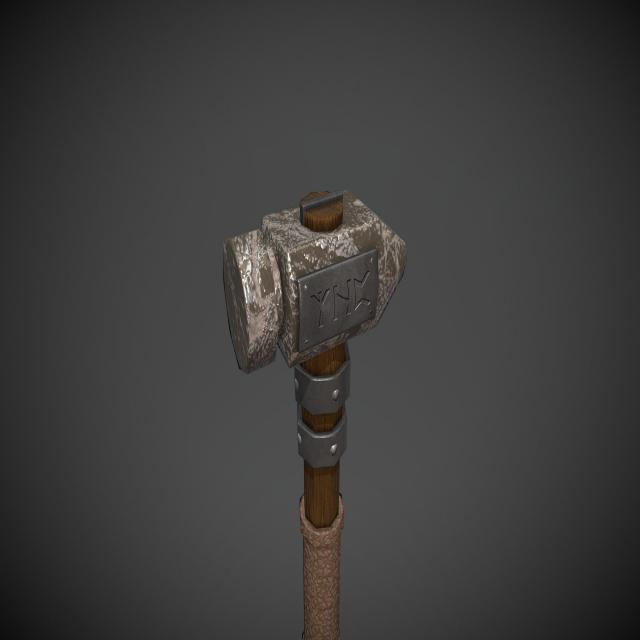hammer: (218, 171, 420, 640)
